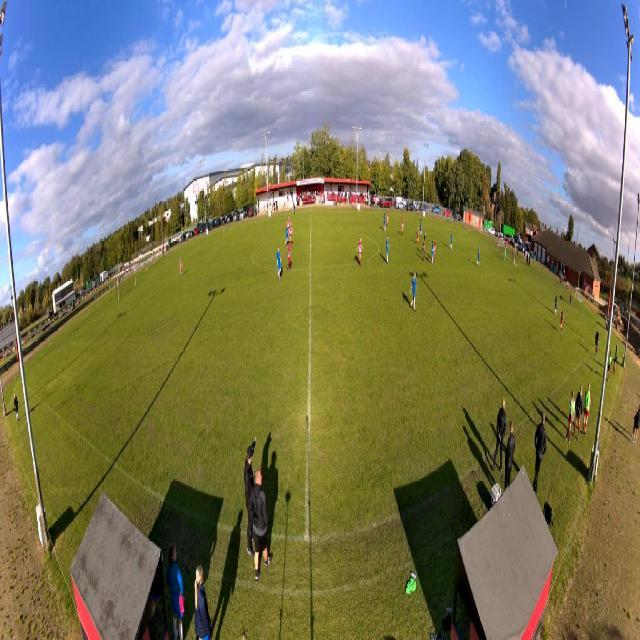player: (409, 270, 418, 314), (355, 234, 364, 268), (276, 245, 282, 282), (558, 307, 564, 335), (287, 241, 292, 272), (289, 221, 294, 248), (386, 234, 390, 265), (421, 231, 426, 255), (553, 294, 558, 316), (433, 237, 437, 264), (415, 224, 420, 245), (431, 239, 435, 265), (285, 223, 289, 247), (422, 238, 426, 262), (476, 244, 480, 268), (449, 229, 453, 251), (179, 257, 183, 278), (383, 212, 387, 232), (401, 216, 405, 236), (503, 244, 507, 264), (287, 216, 291, 235), (419, 218, 422, 238), (386, 211, 389, 228)
